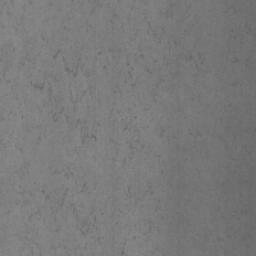Silk spot: (0, 0, 256, 256), (217, 207, 250, 241)
